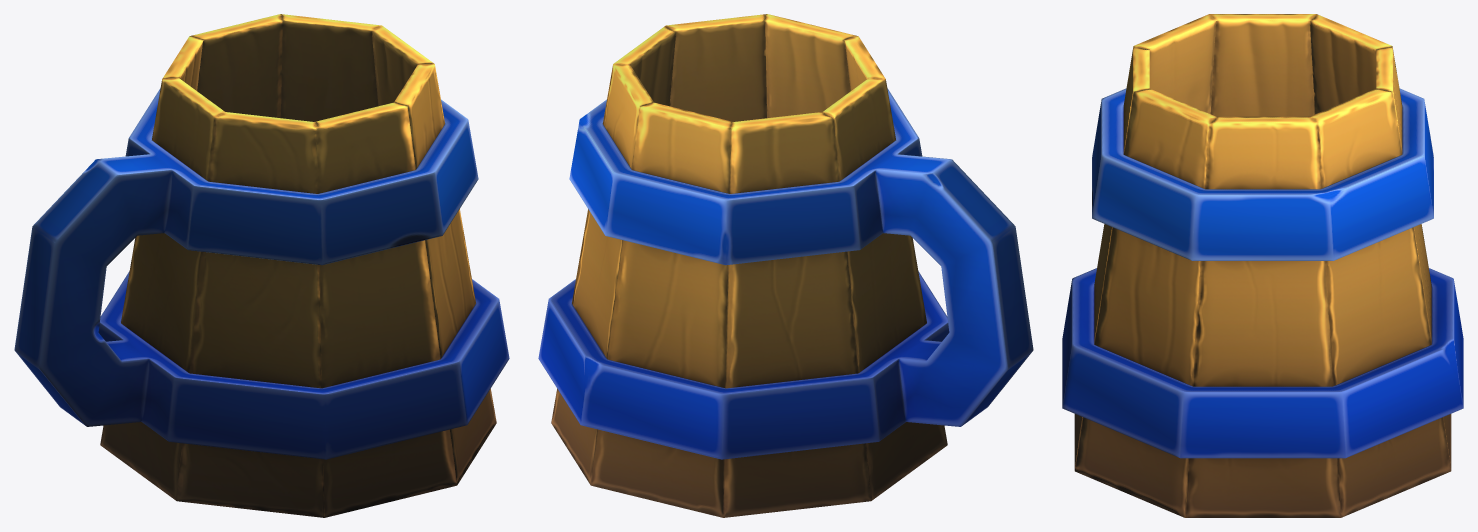
Rendered from Beer.glb.
3 views of the same model, side by side, from view 1: azimuth 30°, elevation 25°; view 2: azimuth 150°, elevation 25°; view 3: azimuth 270°, elevation 25° (orthographic).
Parts seen in each view (by area): view 1: Wood_low, Metal_low; view 2: Wood_low, Metal_low; view 3: Wood_low, Metal_low.
Boxes of the visible parts, <box> form: Wood_low: <box>100,14,496,517</box>; Metal_low: <box>14,88,509,459</box>; Wood_low: <box>551,14,947,517</box>; Metal_low: <box>538,88,1033,459</box>; Wood_low: <box>1074,14,1451,517</box>; Metal_low: <box>1062,88,1463,458</box>.
Bounding box in the file's own units: 2.55 × 2 × 1.97.
1 material, 1 textured.
